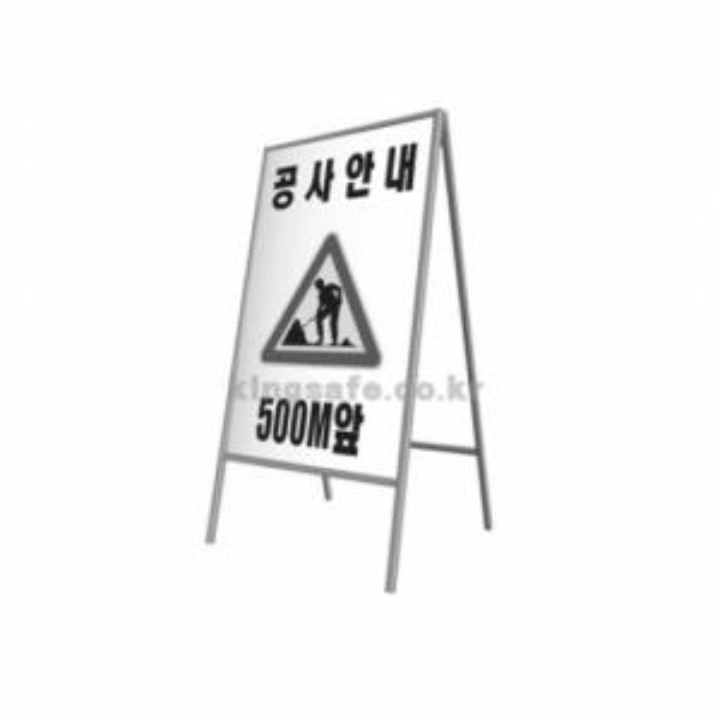const: (269, 261, 366, 352)
